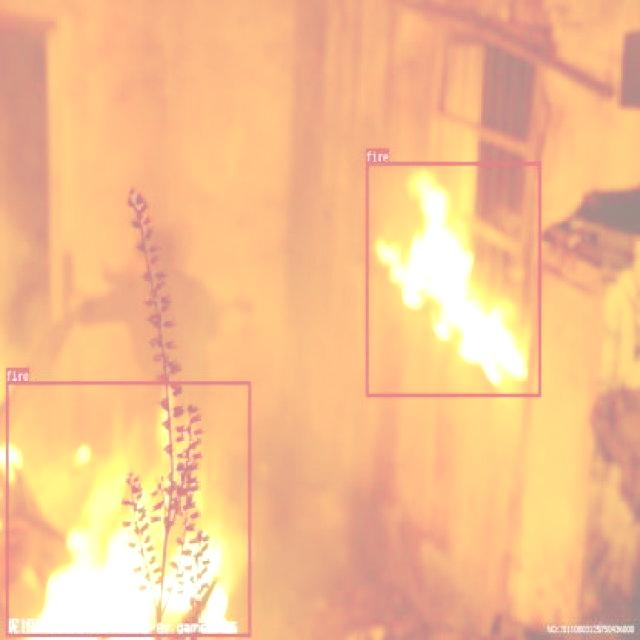fire: (4, 380, 250, 637), (365, 161, 541, 396)
